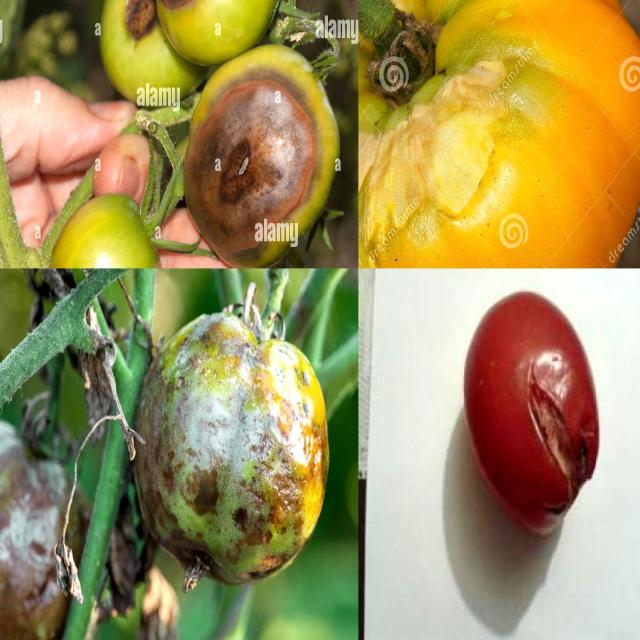Rotten_Tomato: (358, 0, 639, 268), (130, 294, 331, 590), (458, 281, 608, 551), (187, 42, 343, 266), (148, 0, 291, 92), (98, 0, 172, 99)
